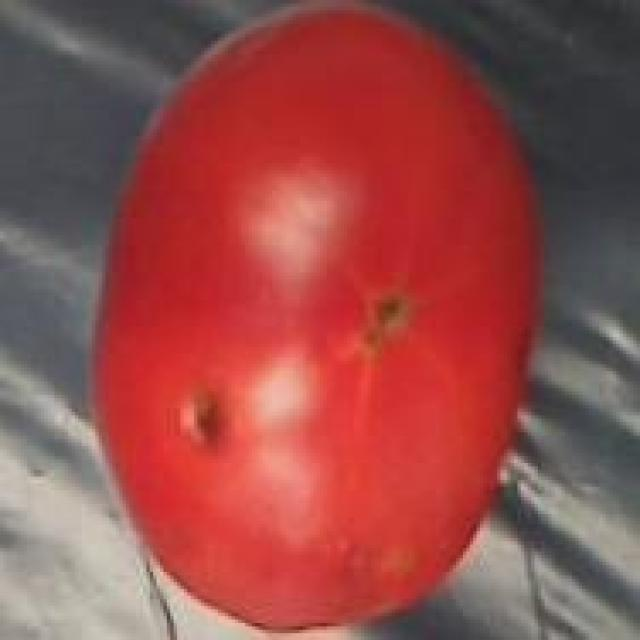overripe tomato: (92, 4, 539, 633)
